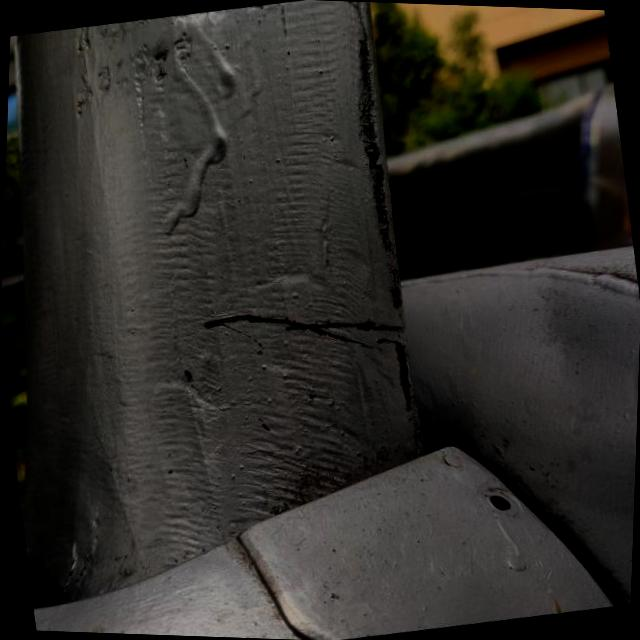Missing Fastener: (487, 488, 515, 512)
